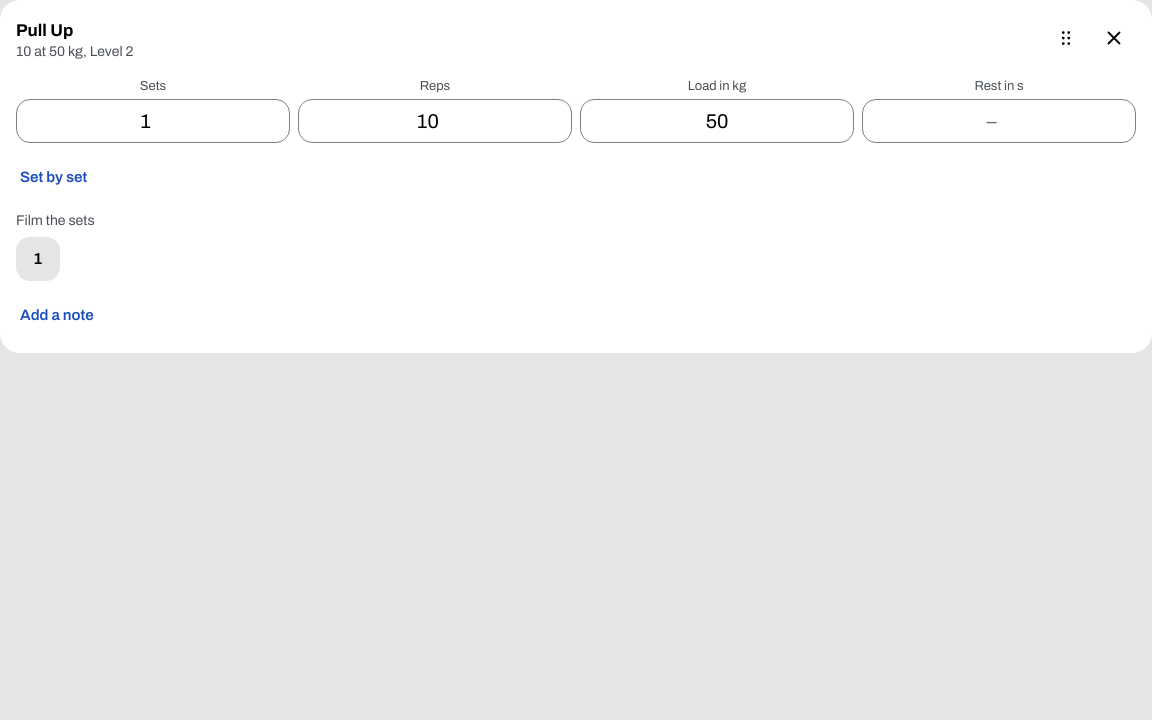
Test: ExerciseSlotRow › disables the X button when only one set remains
Click the button "Set by set" at (54,177), box [16,155,91,199]
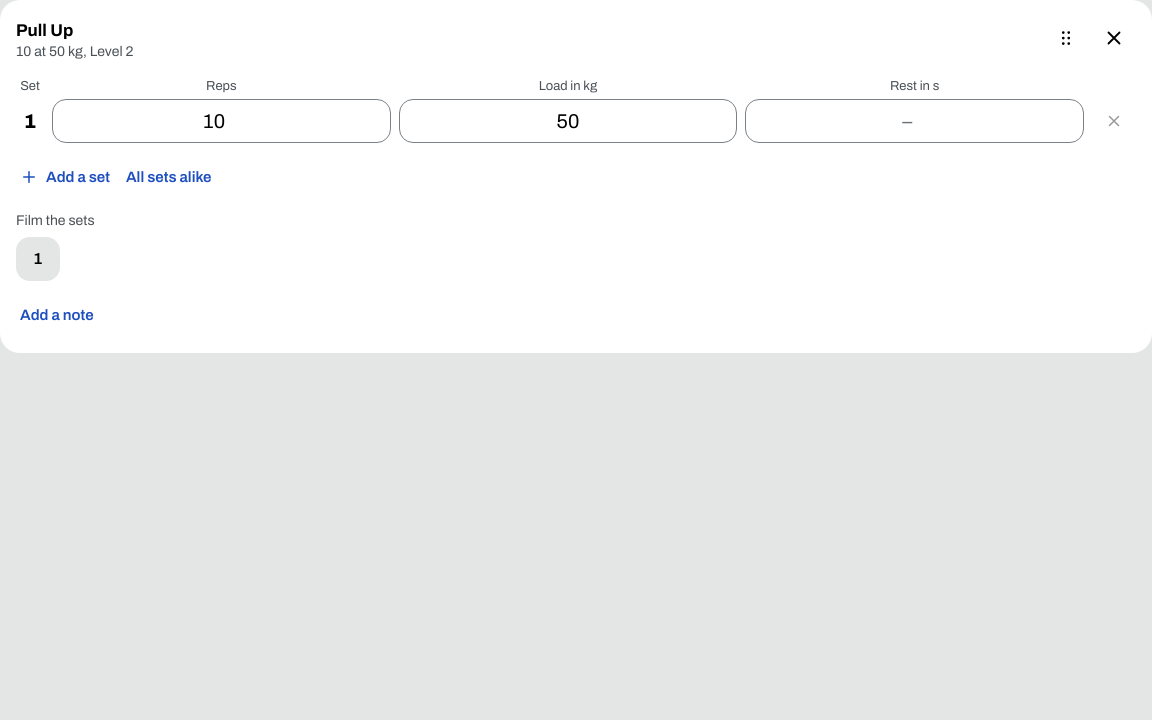
Expected: the button named "Remove set 1" is disabled, [1092,99,1136,143]
